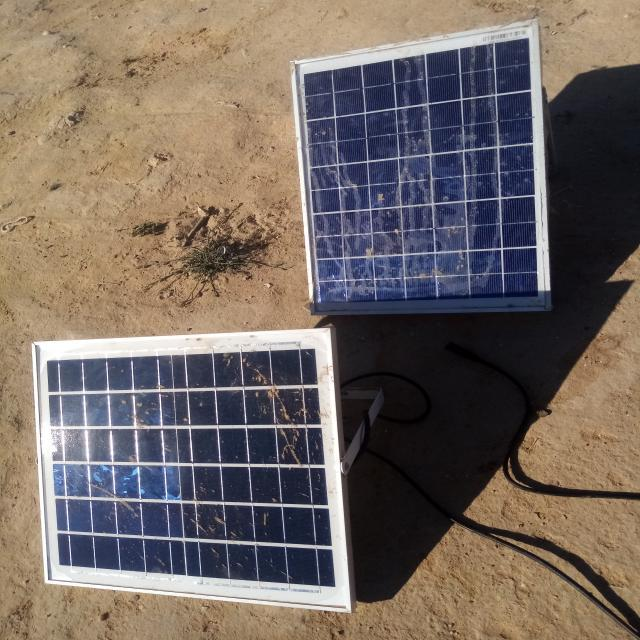faulty: (31, 328, 351, 612), (292, 22, 553, 313)
